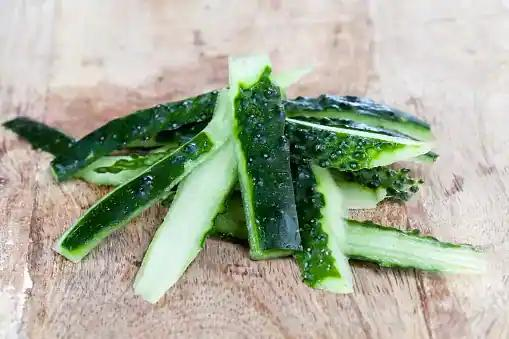organic: (53, 92, 217, 260), (134, 143, 234, 303), (234, 66, 300, 259), (285, 95, 436, 172), (291, 161, 351, 293), (344, 220, 481, 272)
